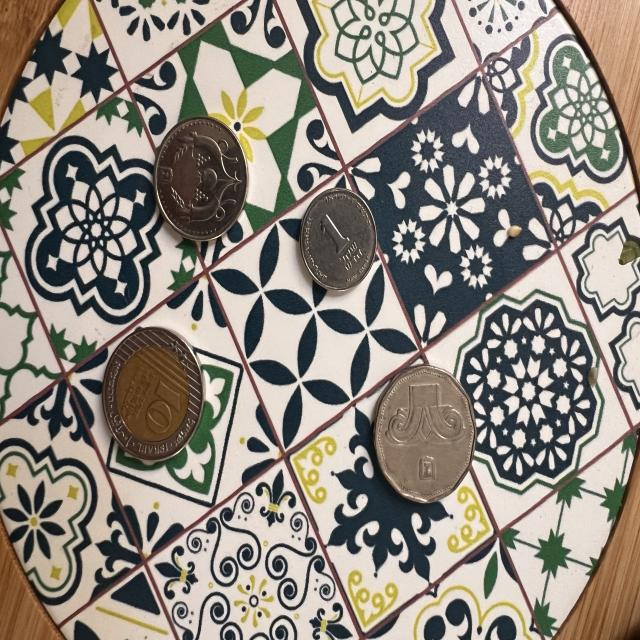1-shekel: (293, 174, 388, 312)
10-shekel: (96, 319, 210, 466)
2-shekel: (150, 114, 258, 251)
5-shekel: (372, 358, 480, 510)
